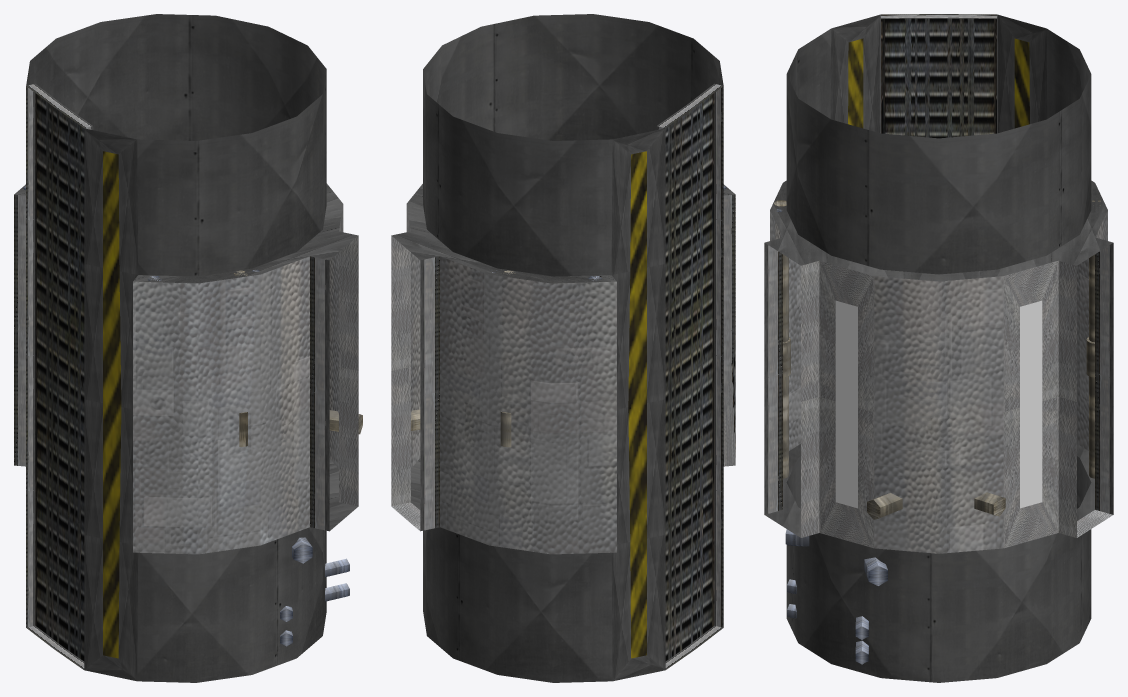
Rendered from hallwaypart.fbx.
3 views of the same model, side by side, from view 1: azimuth 30°, elevation 25°; view 2: azimuth 150°, elevation 25°; view 3: azimuth 270°, elevation 25° (orthographic).
Parts seen in each view (by area): view 1: Tube, floorlight; view 2: Tube, floorlight; view 3: Tube, MainLIghts, floorlight, Cylinder.5, Cylinder.2, Cylinder.9, Cylinder.8.
Part boxes in pixels (x1=…): Tube: x1=14, y1=14, x2=358, y2=682; floorlight: x1=103, y1=151, x2=121, y2=658; Tube: x1=391, y1=14, x2=735, y2=682; floorlight: x1=628, y1=151, x2=646, y2=658; Tube: x1=764, y1=14, x2=1113, y2=682; MainLIghts: x1=835, y1=300, x2=1042, y2=508; floorlight: x1=848, y1=38, x2=1029, y2=128; Cylinder.5: x1=774, y1=200, x2=790, y2=478; Cylinder.2: x1=1086, y1=200, x2=1100, y2=478; Cylinder.9: x1=867, y1=492, x2=1005, y2=519; Cylinder.8: x1=785, y1=529, x2=887, y2=585.
Bounding box in the file's own units: 864 × 1600 × 929.
